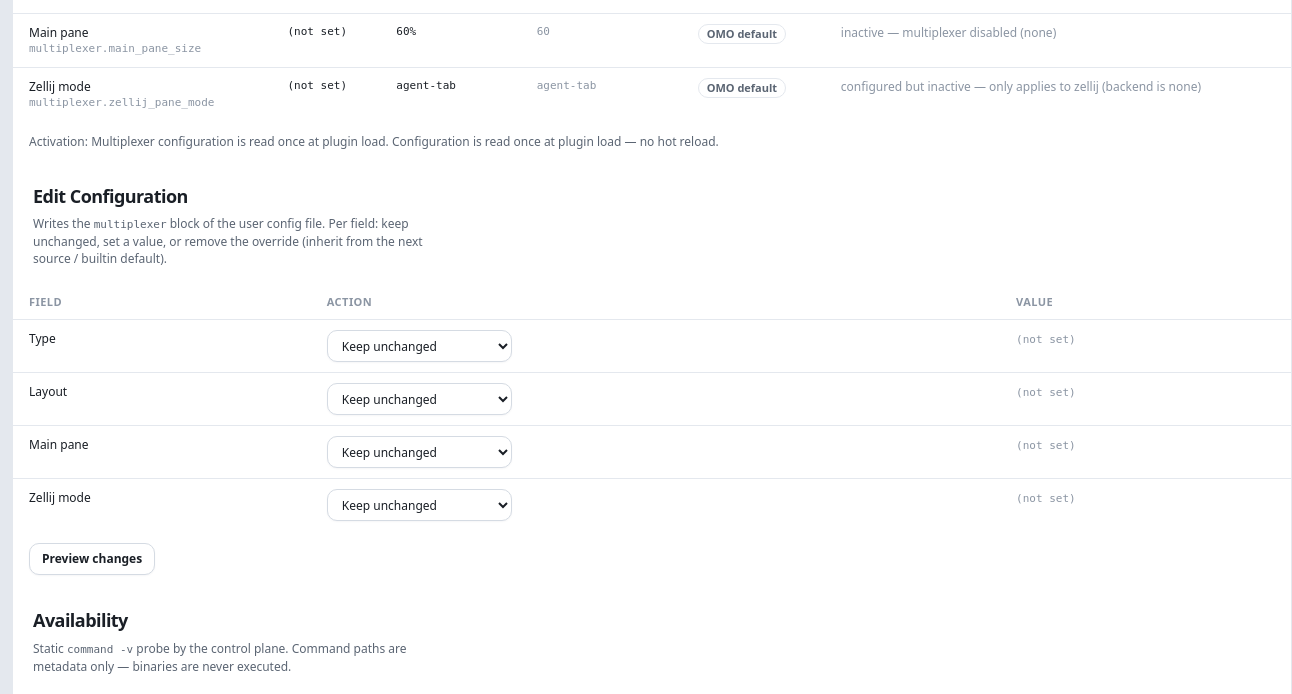
Test: 48 · edit configuration flow › preview shows target, exact paths, diff, schema validation, no-runtime note
(page scrolled)
Select "Set value" in the dropdown labelled "Type" at (419, 346), box [327,330,512,362]
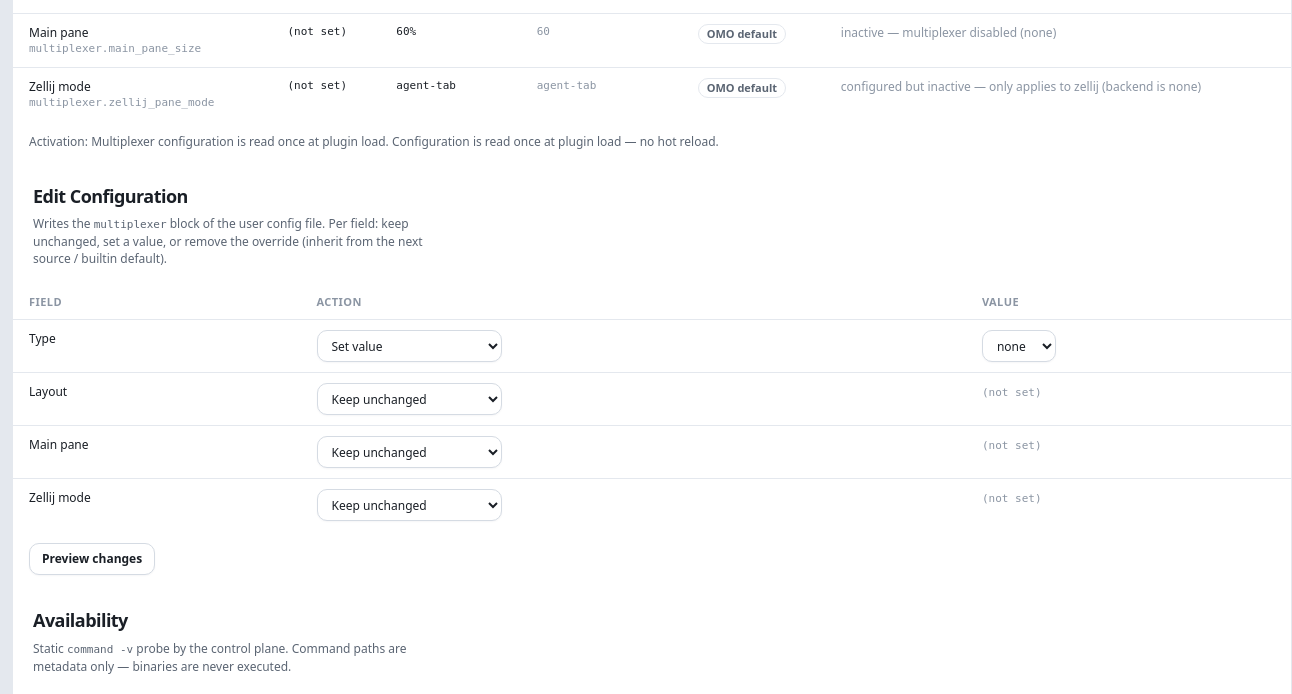
Select "tmux" in the dropdown named "Type value" at (1019, 346), box [982,330,1056,362]
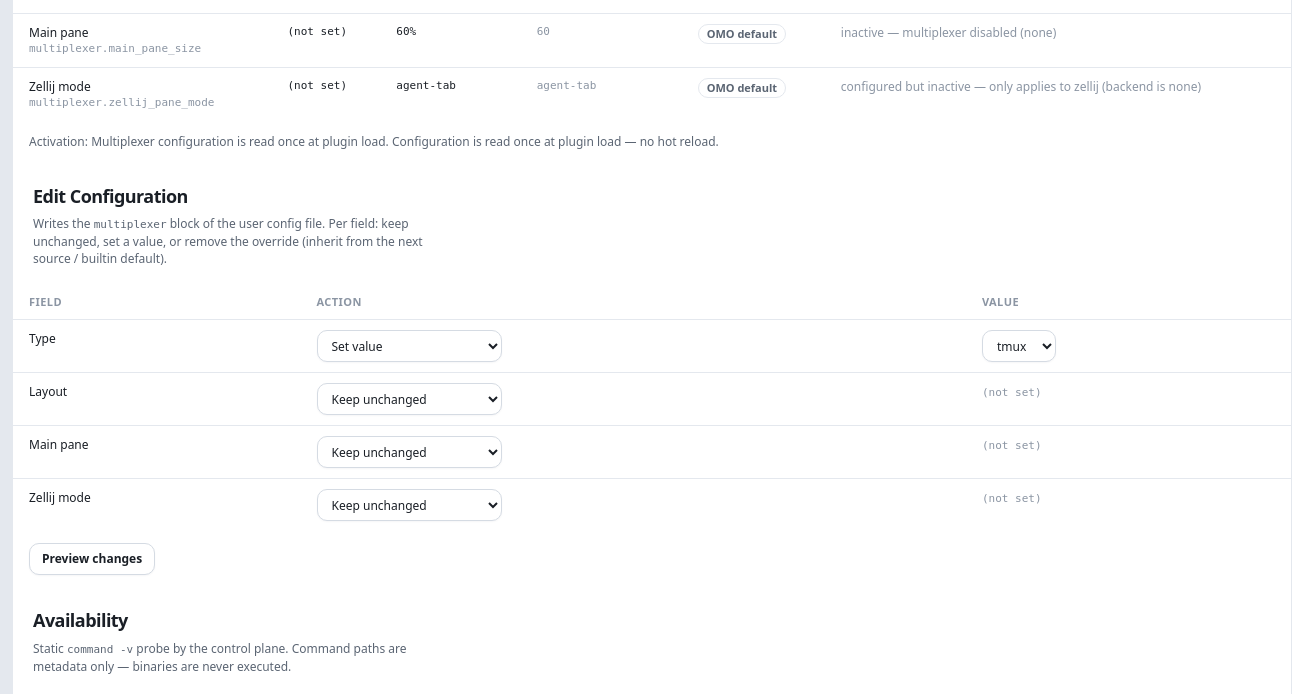
Click the button "Preview changes" at (92, 560), box [29,544,155,576]
(page scrolled)
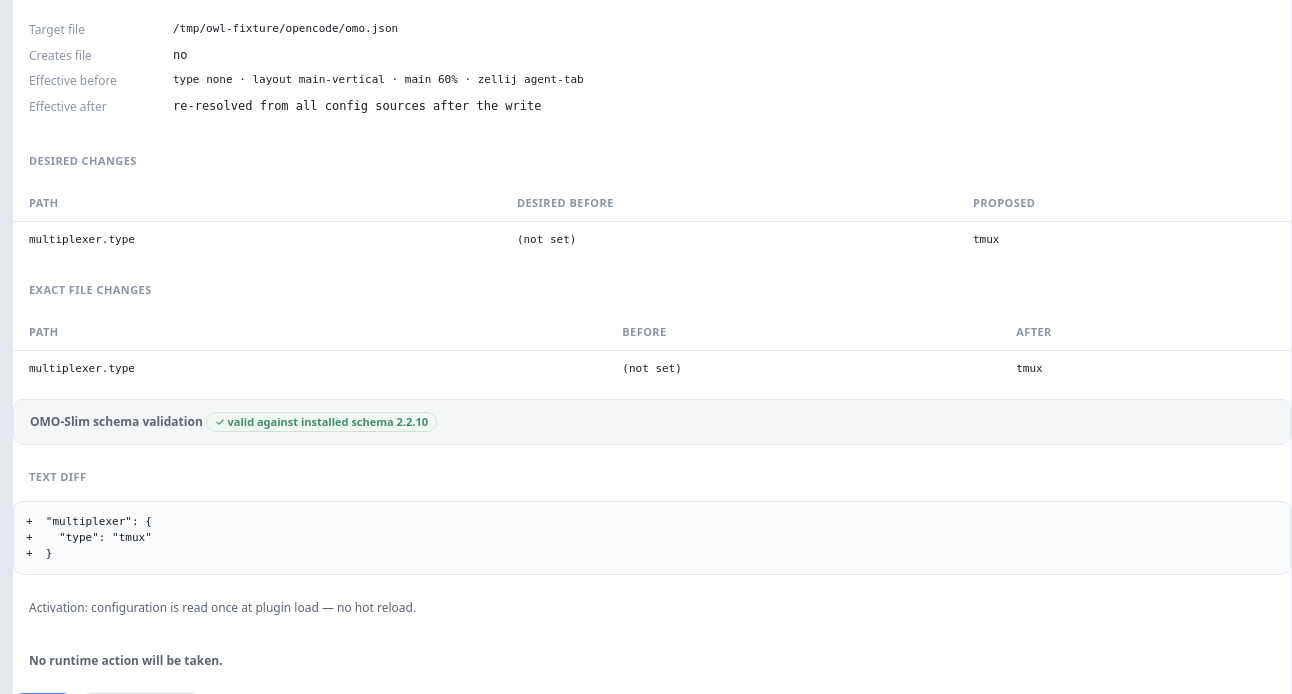
Now the message with test id "mux-preview" shows "/tmp/owl-fixture/opencode/omo.json", box [173,22,398,35]
Now the message with test id "mux-preview" shows "multiplexer.type", box [29,362,135,375]
Now the message with test id "mux-preview" shows "(not set)", box [517,233,576,246]
